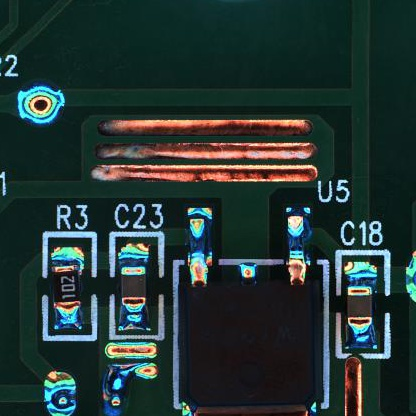spot: (16, 84, 68, 124), (37, 369, 79, 416)
